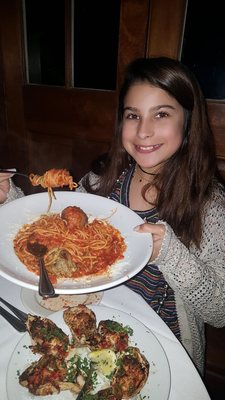sandwich: (19, 306, 150, 400), (11, 205, 129, 290)
